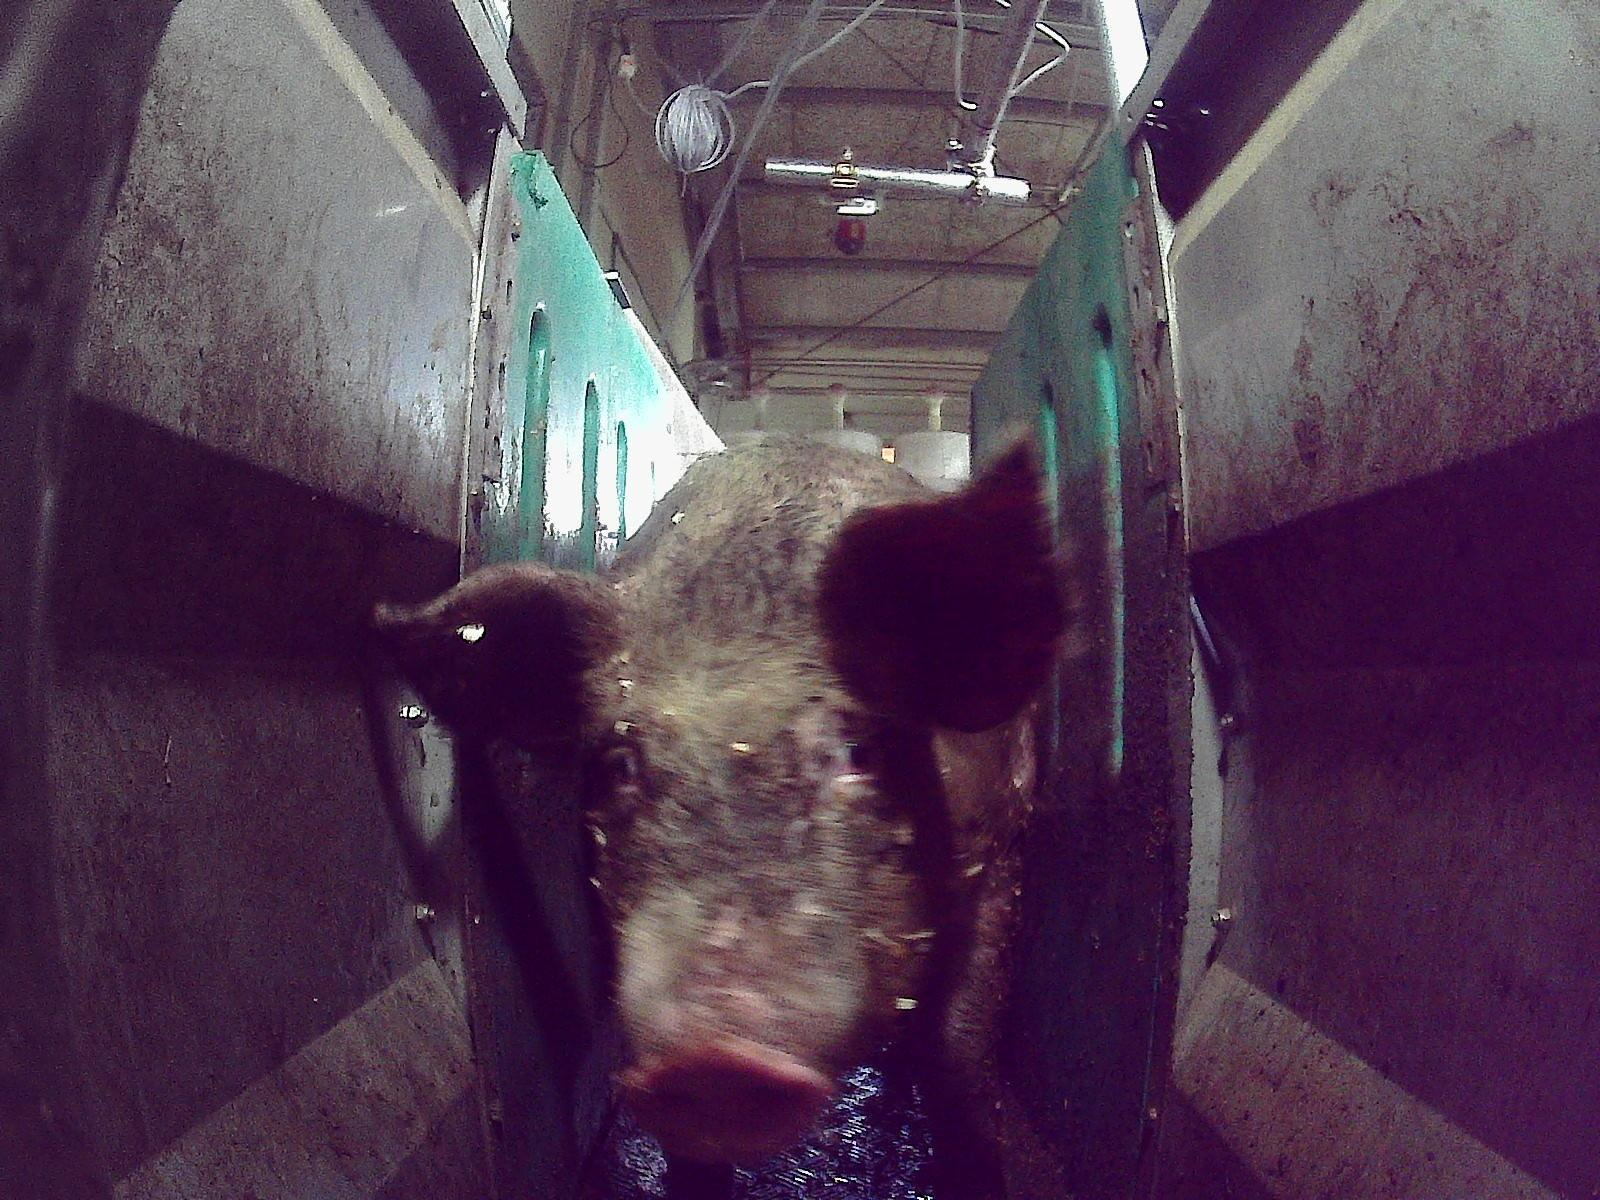Face: (580, 535, 968, 1164)
